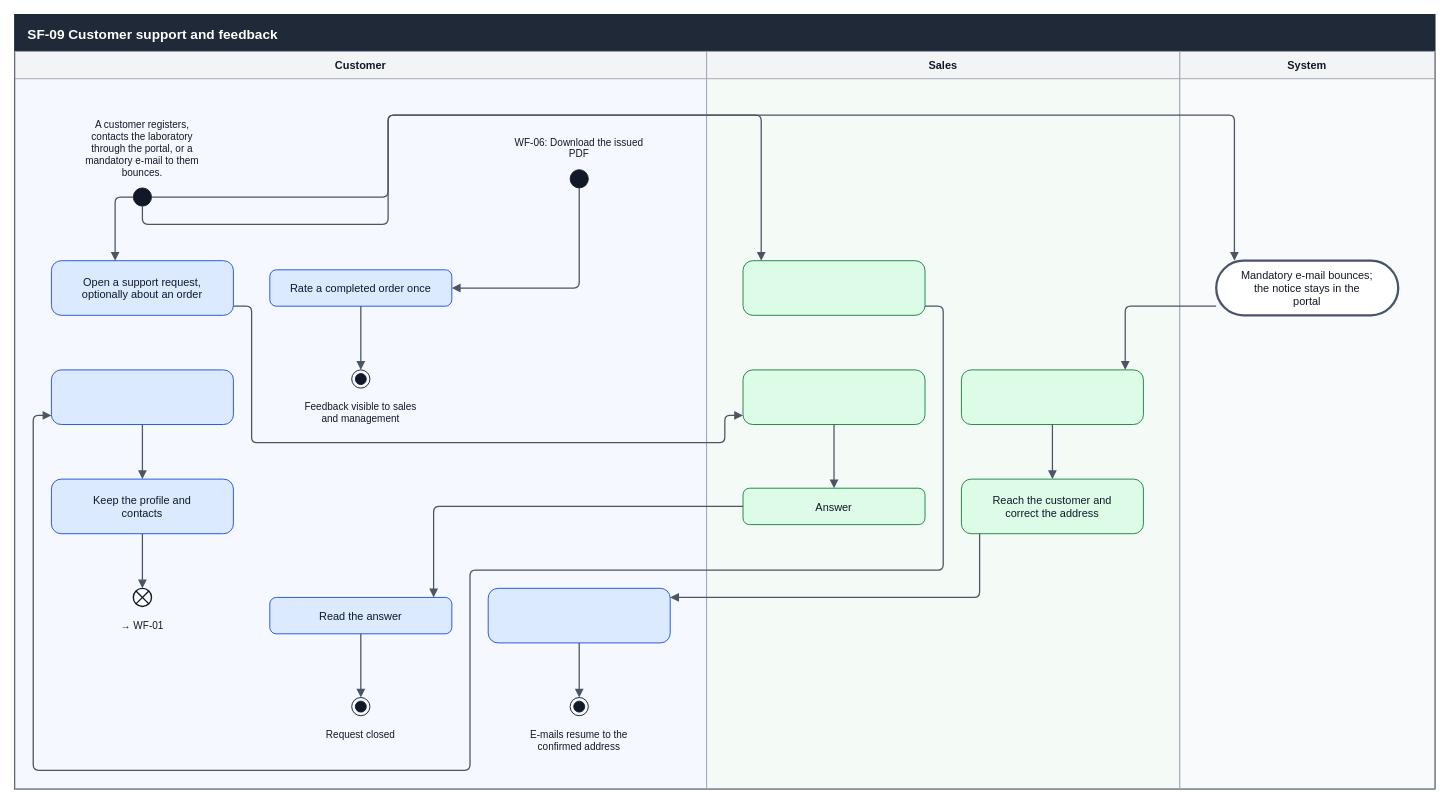
This 1450x804 diagram has some shape labels left out. Here are the shapes that lost their labels. From the top down, the centre of each, then its label:
pixel 833 287: Invite the customer and merge duplicate profiles
pixel 142 397: Register, or accept the invitation from sales
pixel 833 397: Take the request: the order's salesperson, or anyone for no order
pixel 1052 397: Contact task: the order's salesperson, or the Sales queue
pixel 578 615: Open the confirmation link sent to the corrected address
